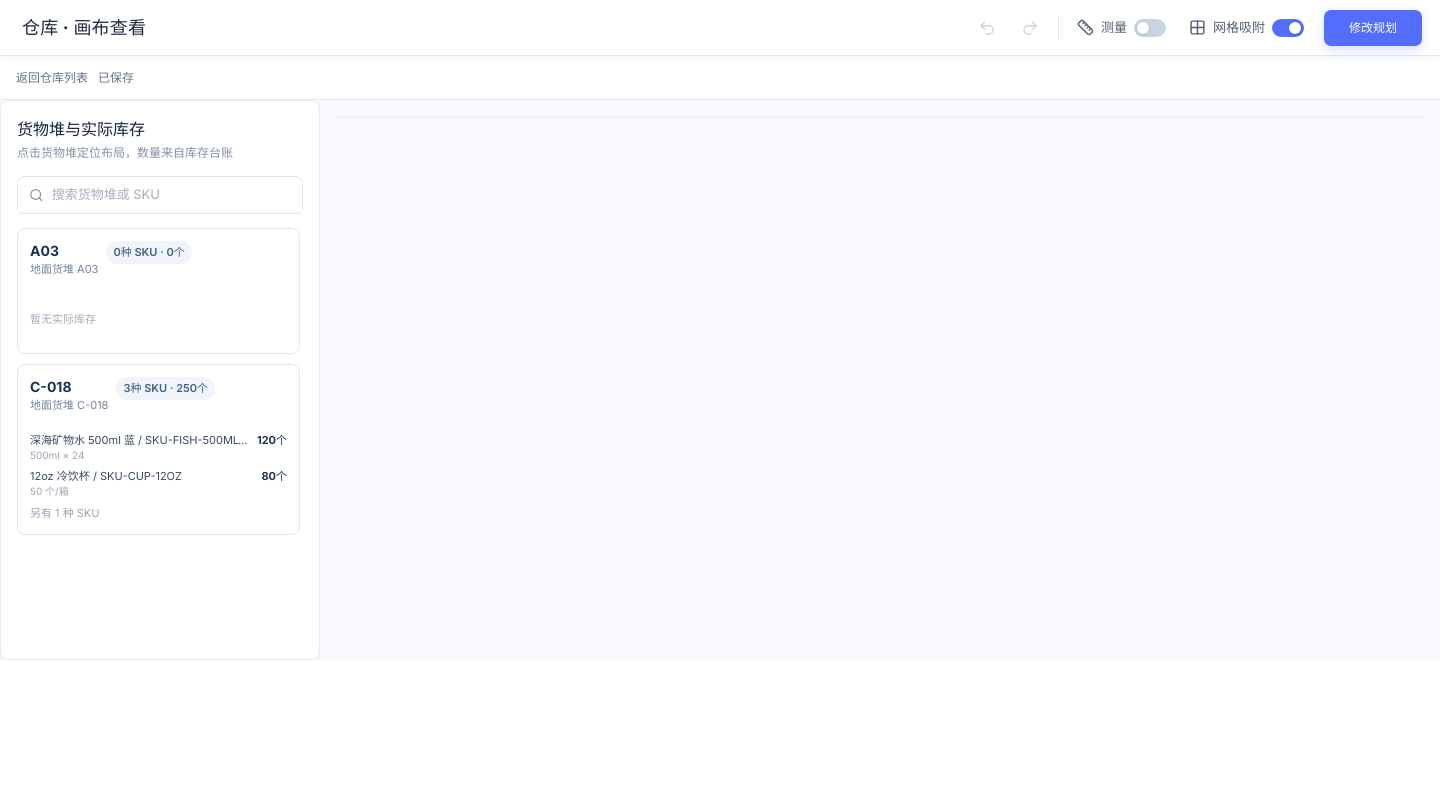
Test case: Warehouse canvas overview › synchronizes successful allocation after drawer switch within the same warehouse
Click the button with test id "inventory-pile-pallet-a03". click: [64, 269]
box: [17,228,300,354]
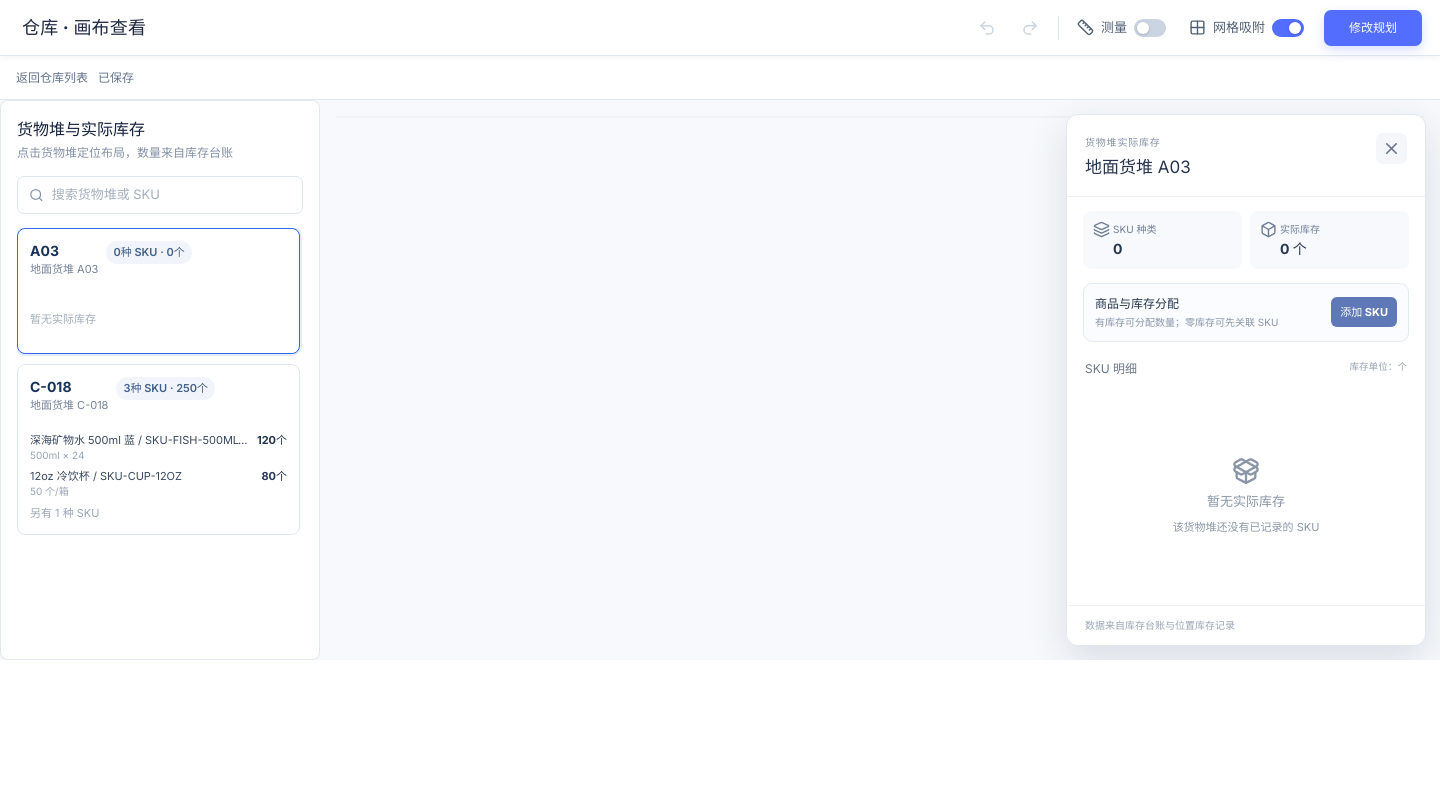
Click the button with test id "inventory-add-sku". click: [1364, 312]
box: [1331,297,1397,327]
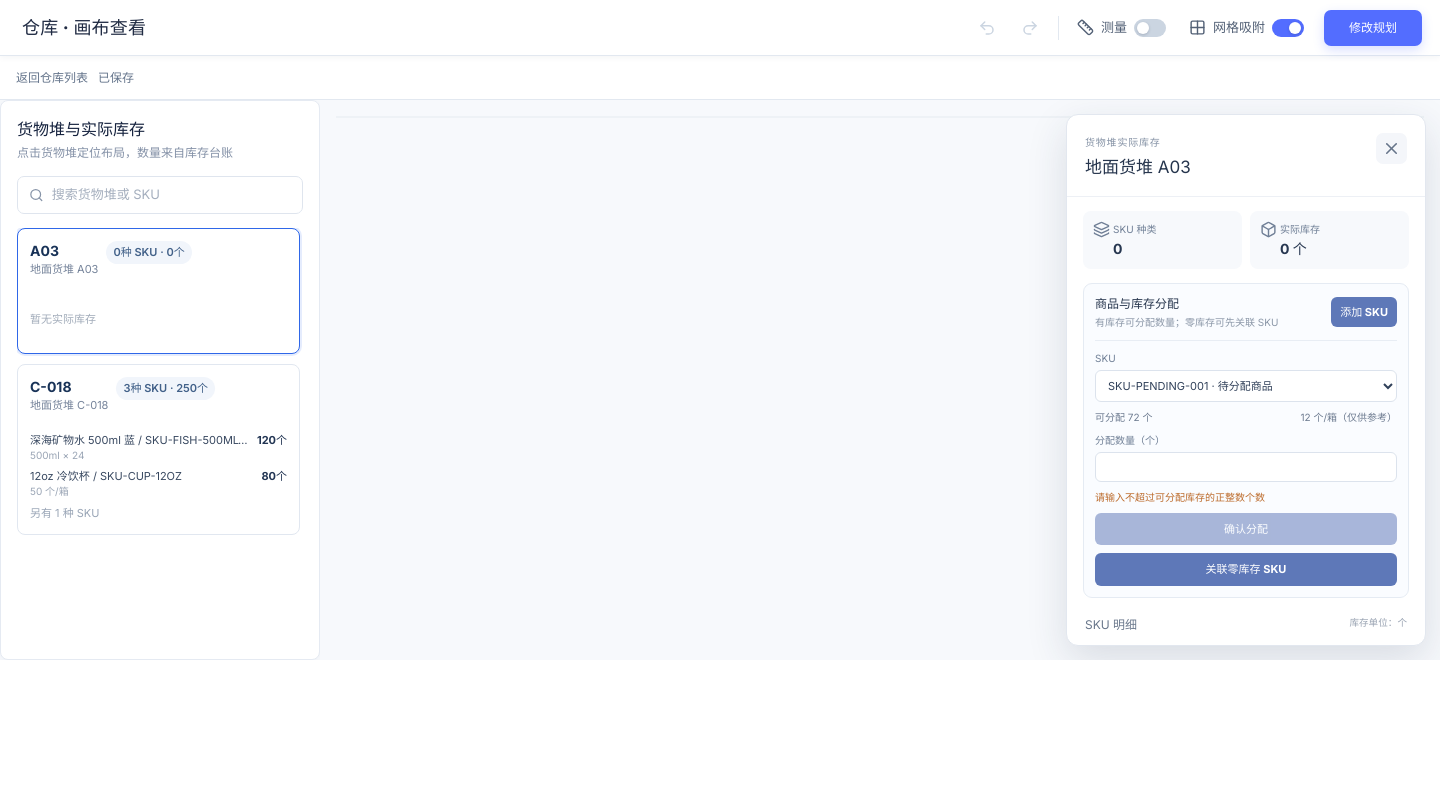
Type "24" into the number field with test id "inventory-allocation-units". click: [1246, 466]
box: [1095,452,1397,482]
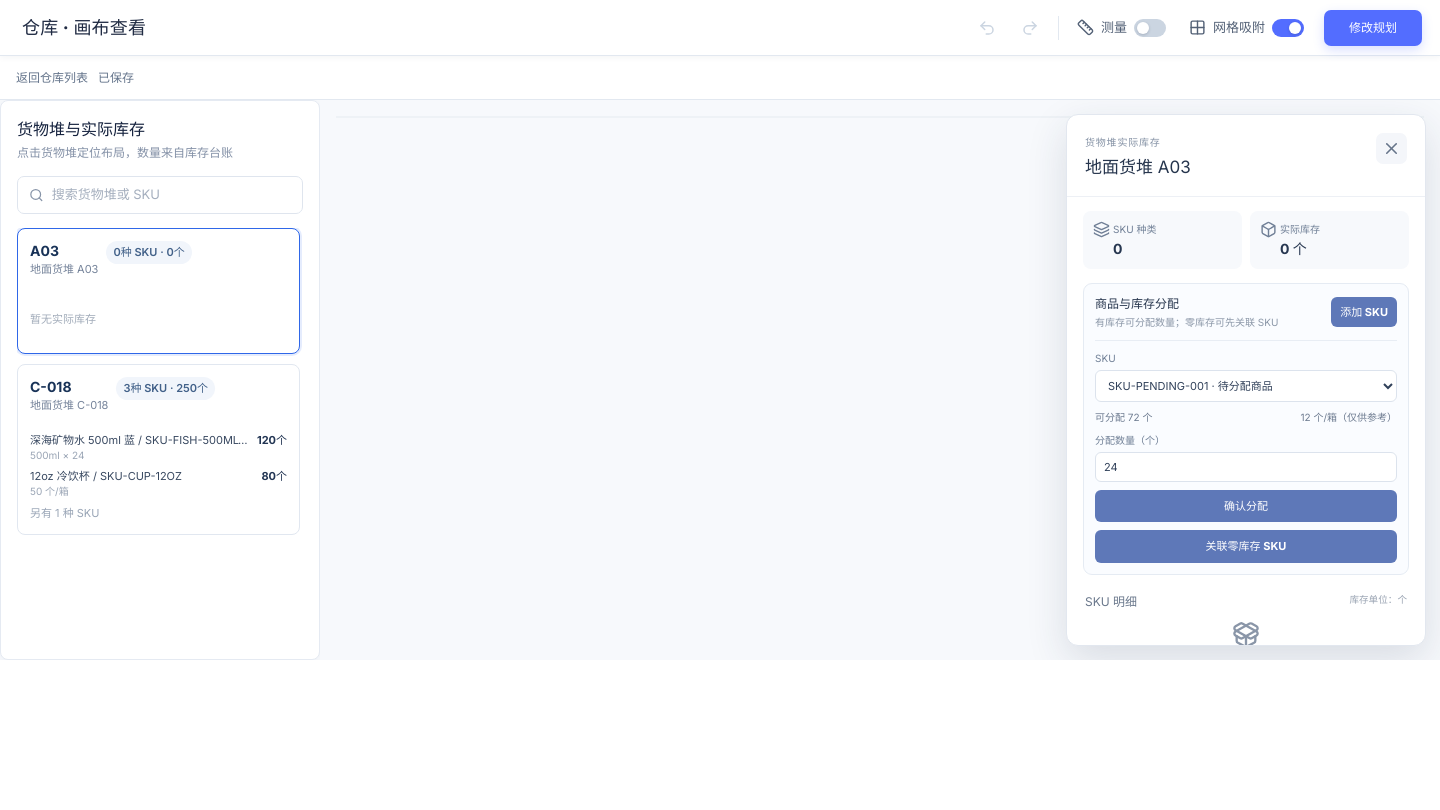
Submit the form with test id "inventory-allocation-form", box [1095,340,1397,562]
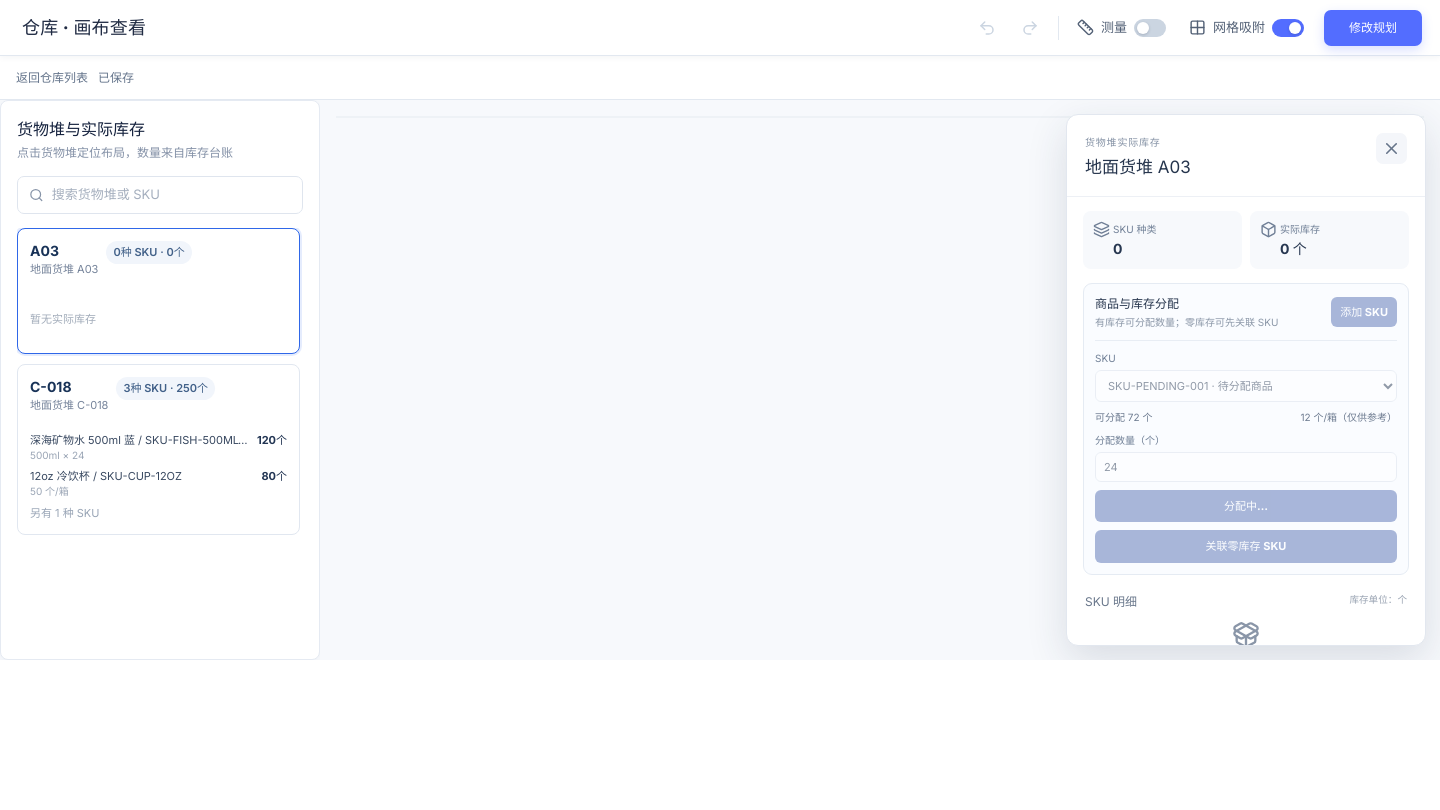
Click the button with test id "inventory-pile-pallet-c018". click: [158, 450]
box: [17,364,300,535]
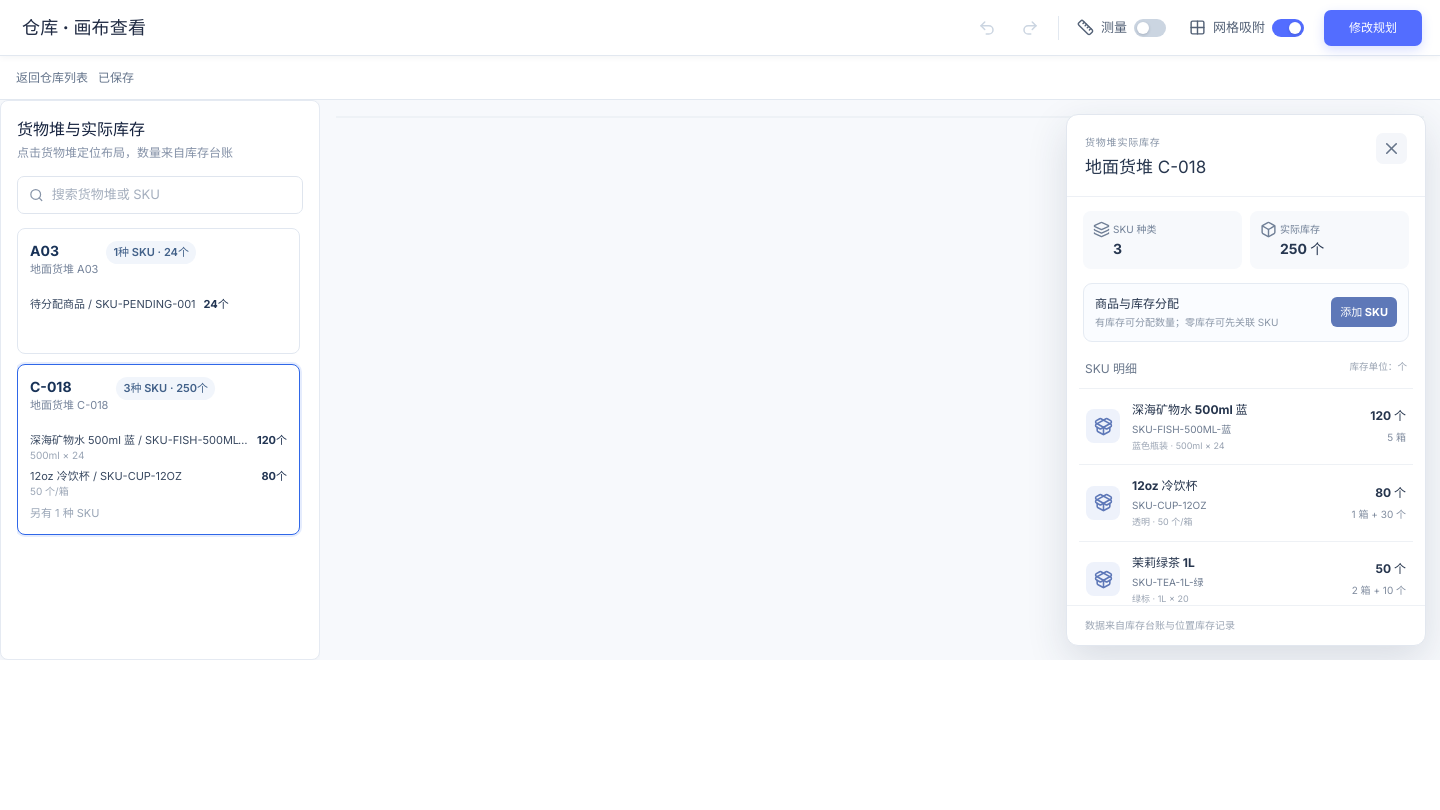
Check: the button with test id "inventory-pile-pallet-a03" shows "1种 SKU · 24个"
Click the button with test id "inventory-pile-pallet-a03". click: [64, 269]
box: [17,228,300,354]
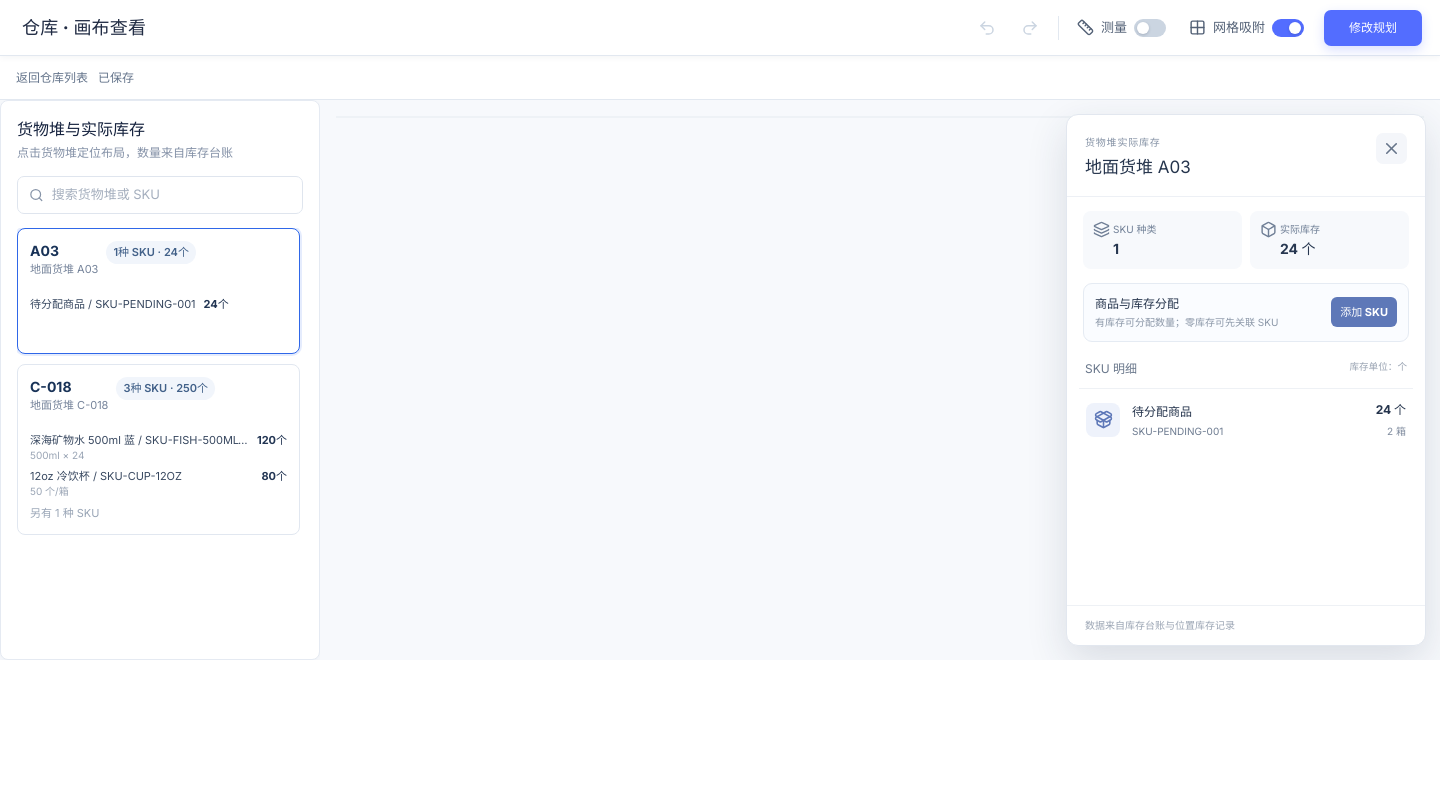
Check: the element with test id "inventory-detail-sku" shows "24 个", box [1376,402,1406,416]
